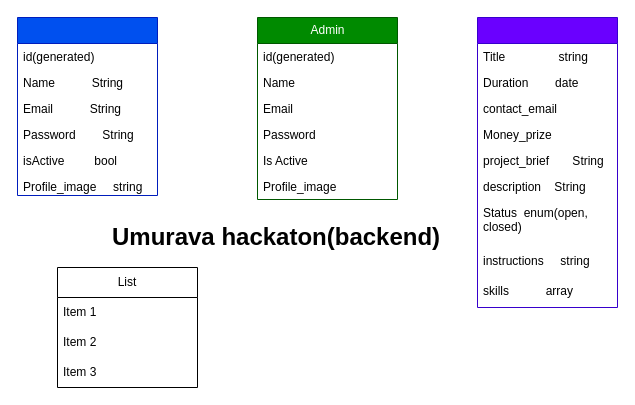
The diagram is 635 pixels wide and 405 high, and some of its shapes have lost their labels. Here are the shapes that lost their labels. From the top down, the box of each, then its label:
(16, 16, 158, 196): Users
(476, 16, 618, 308): Challenges
